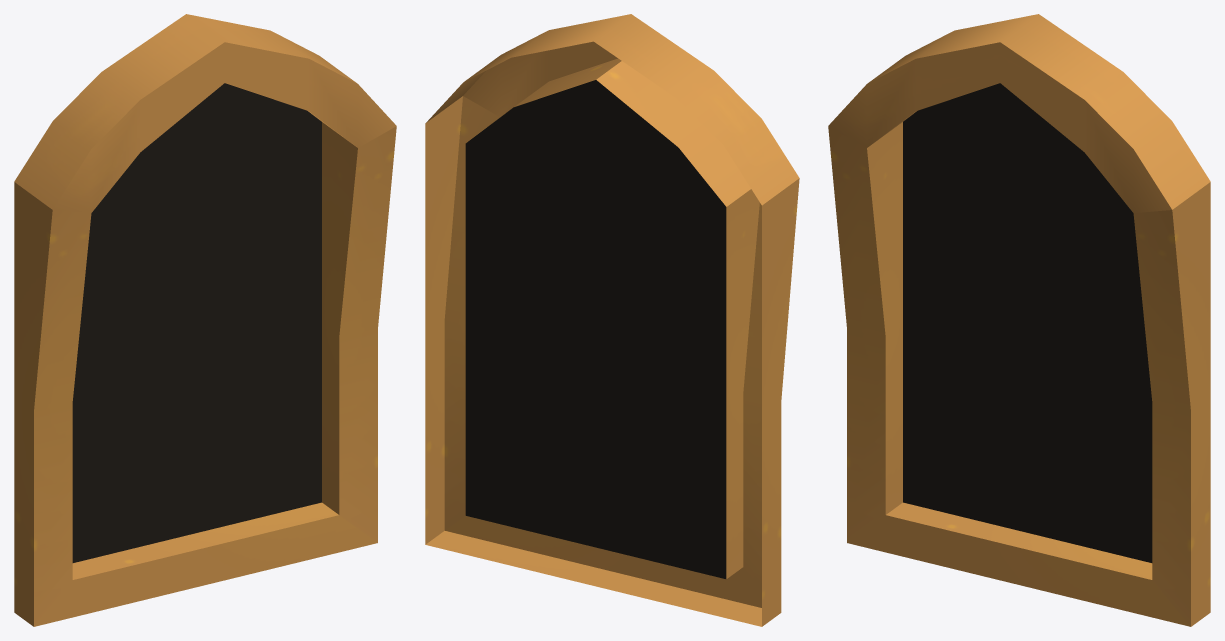
File: desertWindow_MESH.fbx
The picture shows the model from 3 angles, left to right: view 1: azimuth 30°, elevation 25°; view 2: azimuth 150°, elevation 25°; view 3: azimuth 330°, elevation 25°; orthographic projection. The views are drawn at different scales.
Parts seen in each view (by area): view 1: Desert_Window; view 2: Desert_Window; view 3: Desert_Window.
Boxes of the visible parts, left/top/right/bottom form: Desert_Window: left=14, top=14, right=396, bottom=626; Desert_Window: left=425, top=14, right=799, bottom=626; Desert_Window: left=828, top=14, right=1210, bottom=626.
Size of the model in its own units: 35.72 by 55.2 by 6.92.
